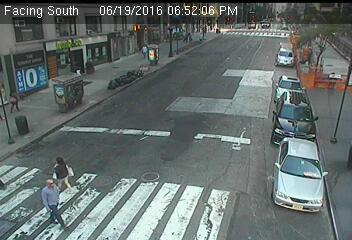neg: (147, 45, 162, 65), (81, 58, 95, 77), (174, 29, 183, 41), (197, 28, 205, 39)
pos: (29, 178, 67, 229), (46, 151, 75, 190), (2, 88, 20, 111), (138, 42, 148, 56)
